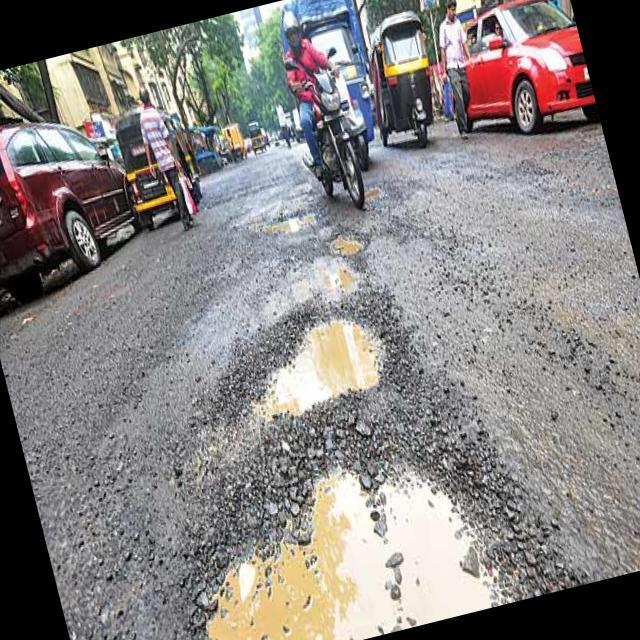Pothole: (172, 415, 523, 640), (237, 303, 403, 432), (280, 249, 344, 308), (248, 201, 320, 241), (324, 221, 367, 258)
